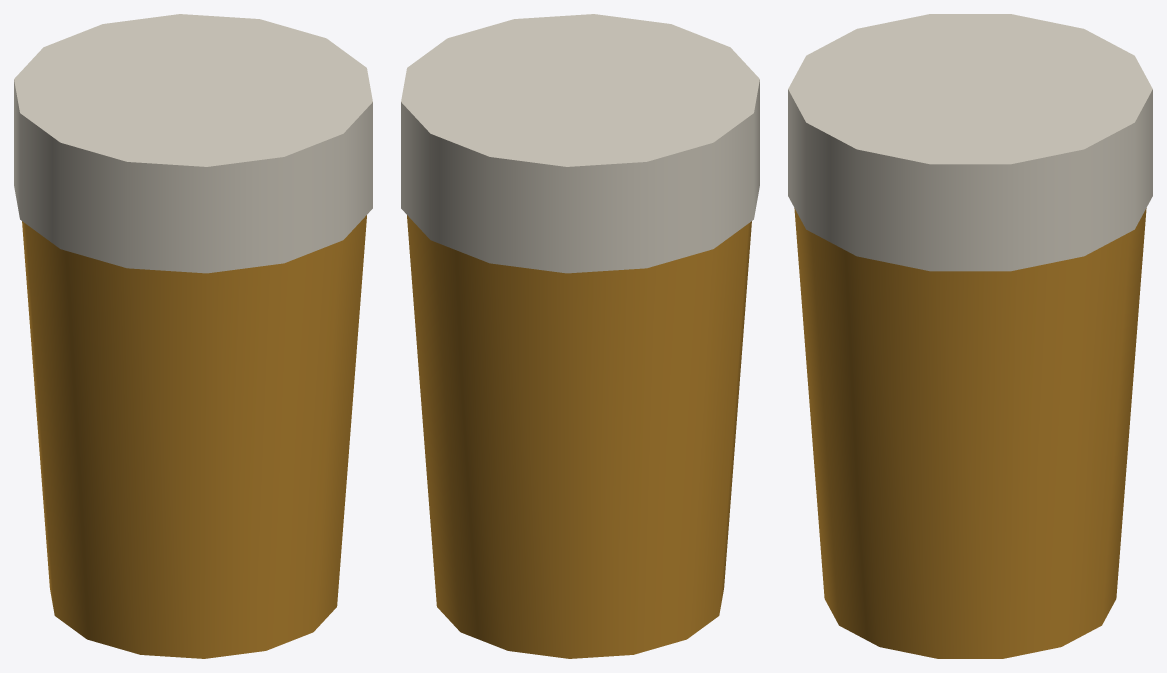
The model's file is item_beer.glb.
3 views of the same model, side by side, from view 1: azimuth 30°, elevation 25°; view 2: azimuth 150°, elevation 25°; view 3: azimuth 270°, elevation 25° (orthographic).
Parts seen in each view (by area): view 1: item_beer; view 2: item_beer; view 3: item_beer.
Part boxes in pixels (x1=…): item_beer: x1=14, y1=14, x2=372, y2=658; item_beer: x1=401, y1=14, x2=759, y2=658; item_beer: x1=788, y1=14, x2=1152, y2=658.
Bounding box in the file's own units: 0.0877 × 0.1388 × 0.09.
